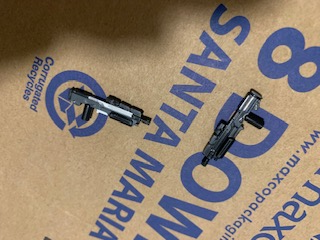rifle: (198, 85, 267, 169), (66, 84, 153, 132)
